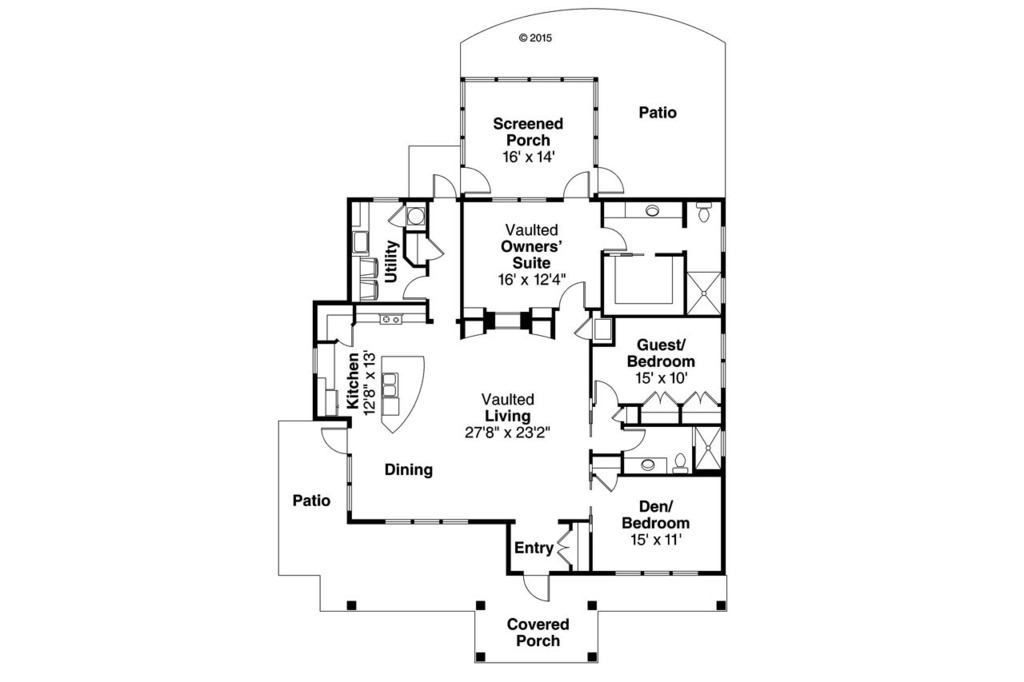door: (618, 424, 651, 456), (319, 423, 350, 456), (559, 280, 591, 311), (522, 569, 553, 601), (595, 163, 628, 193), (562, 170, 592, 202), (427, 170, 457, 199), (462, 166, 493, 193), (602, 223, 628, 255), (679, 388, 720, 406), (591, 471, 622, 494), (594, 378, 620, 405), (638, 390, 679, 405), (402, 275, 427, 298), (424, 239, 443, 263)
kitchen_bar: (378, 353, 427, 434)
large_sink: (689, 200, 716, 226), (670, 451, 692, 472)
small_sink: (624, 458, 669, 475)
windows: (384, 516, 476, 530)
